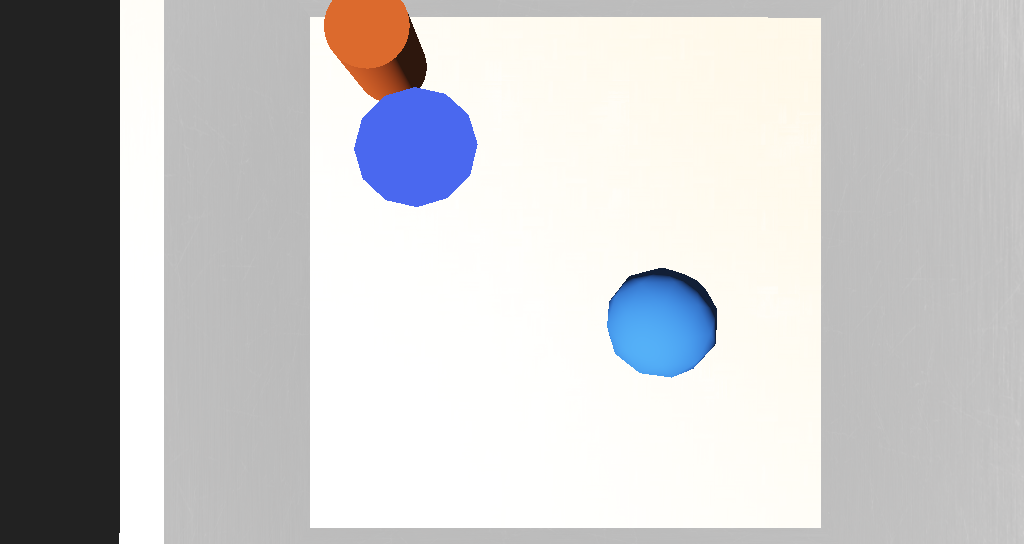cone: (371, 157, 424, 196)
cylinder: (387, 198, 461, 251)
sphere: (529, 270, 589, 313)
